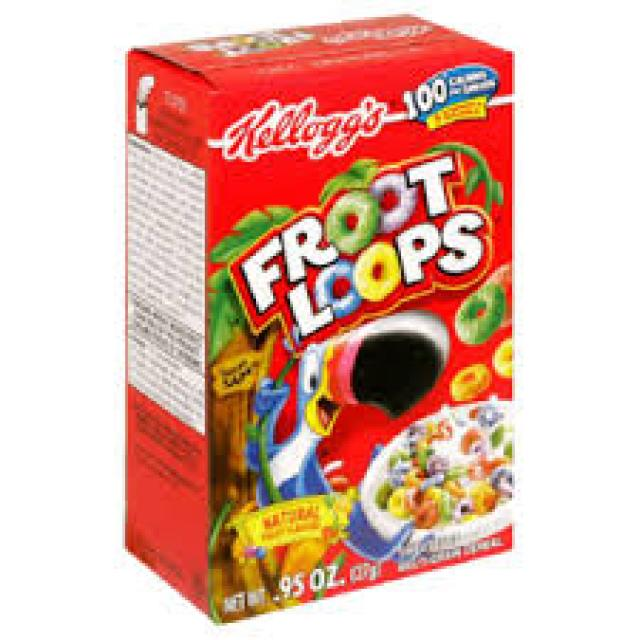Kertas: (126, 14, 524, 622)
